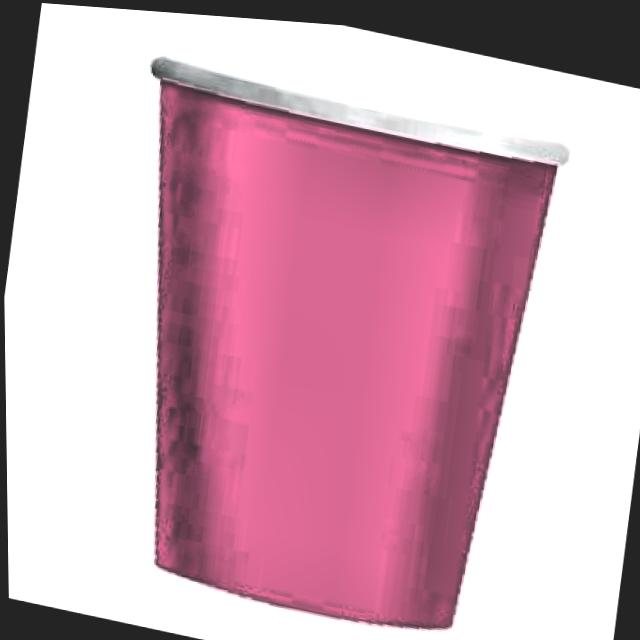Cup: (60, 25, 583, 640)
